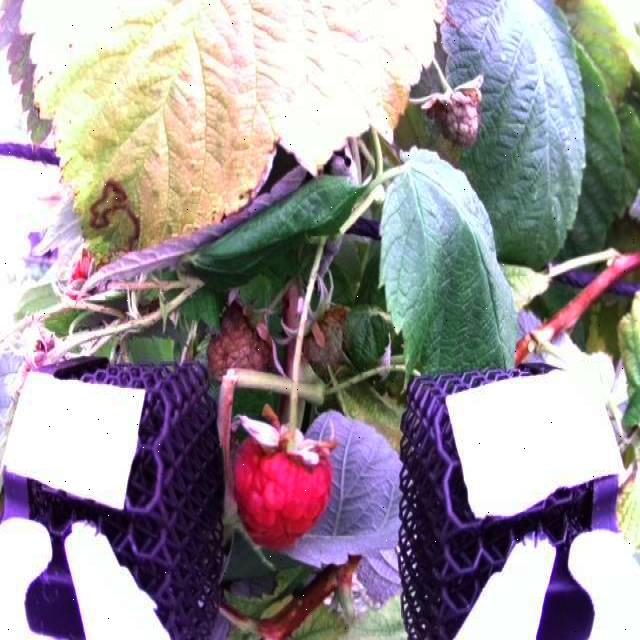Riped berries: (231, 404, 340, 545)
